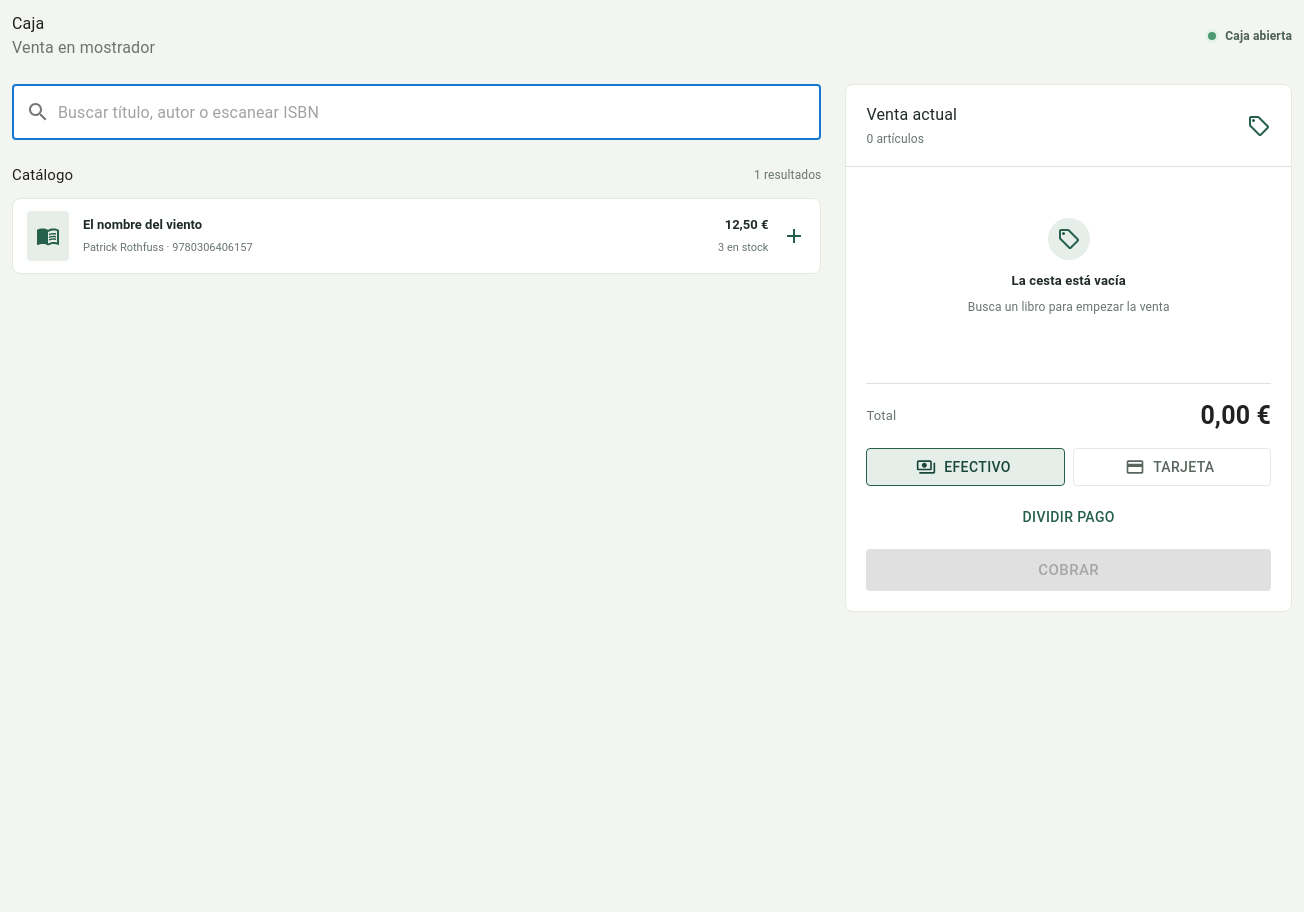
Test: PointOfSale › sends the server-calculated sale and displays the saved receipt
Click the button "El nombre del viento": [48, 236] box [12, 198, 821, 274]
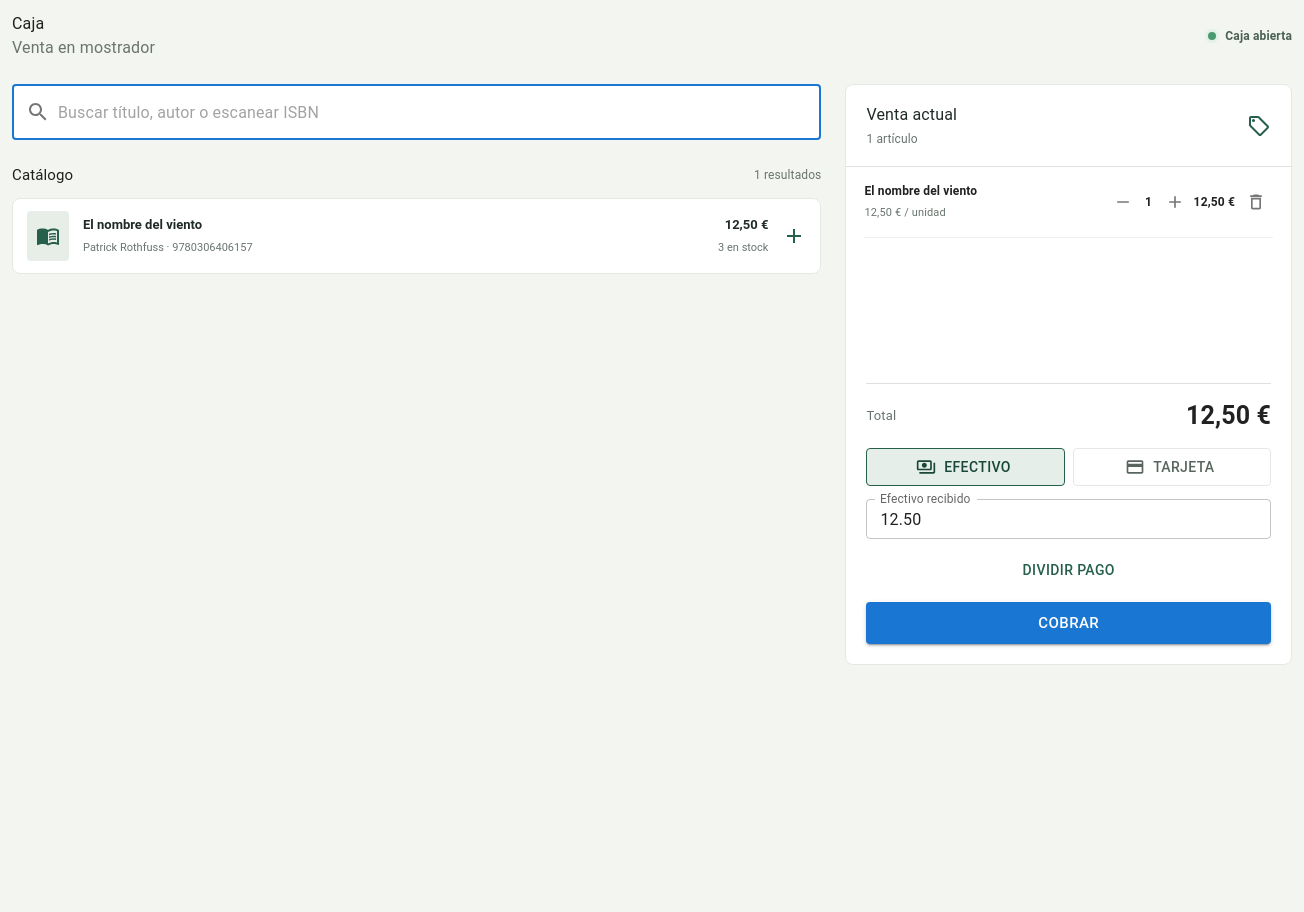
Check: the text "12,50 €" below "1 resultados" is shown, box [725, 217, 768, 232]
Click the button "Cobrar": [1069, 623] box [866, 602, 1271, 644]
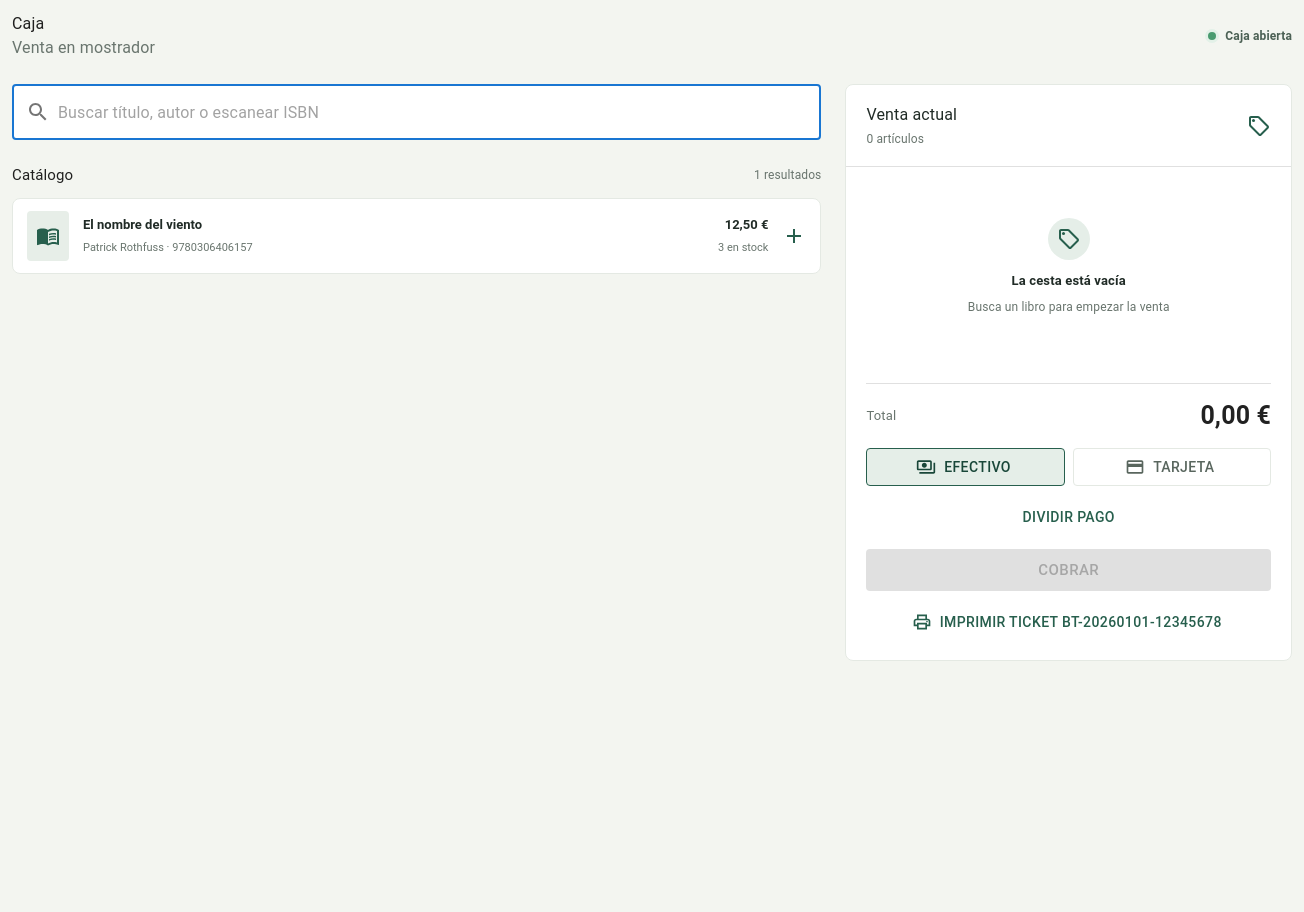
Check: the button "Imprimir ticket BT-20260101-12345678" is shown, box [866, 604, 1271, 640]
